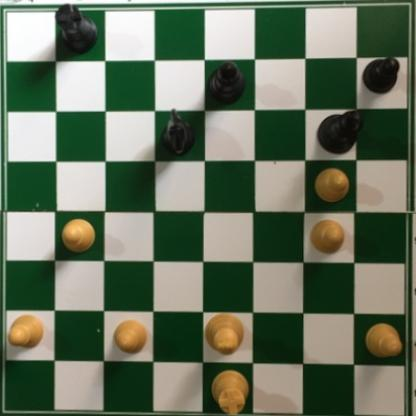black-bishop: (203, 60, 246, 107)
black-king: (314, 108, 363, 155)
black-knight: (159, 106, 197, 158)
black-pawn: (360, 54, 400, 95)
black-rook: (51, 0, 100, 54)
white-king: (202, 311, 245, 357)
white-pawn: (309, 164, 349, 204), (307, 217, 348, 256), (105, 317, 148, 354), (60, 216, 99, 255), (5, 311, 45, 349), (363, 323, 403, 360)
white-rook: (210, 364, 252, 416)
